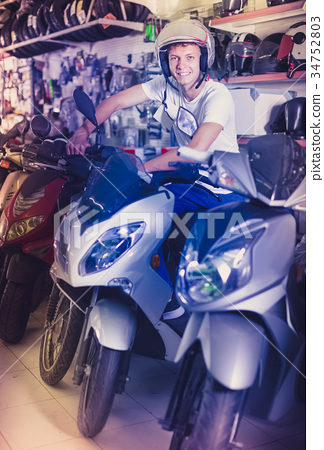helmet: (153, 20, 222, 80)
